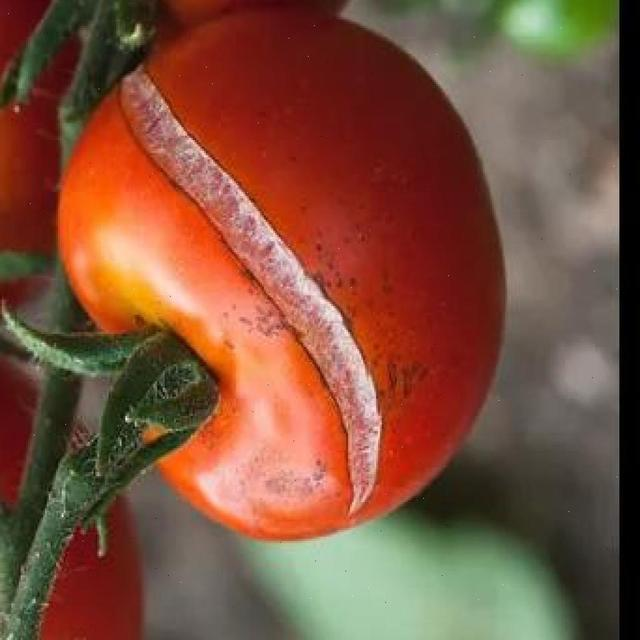Cracking Fruit: (71, 44, 264, 352)
